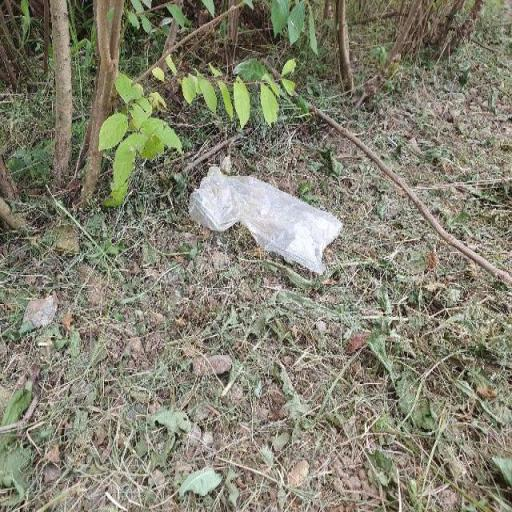plastic-bag: (187, 163, 346, 275)
